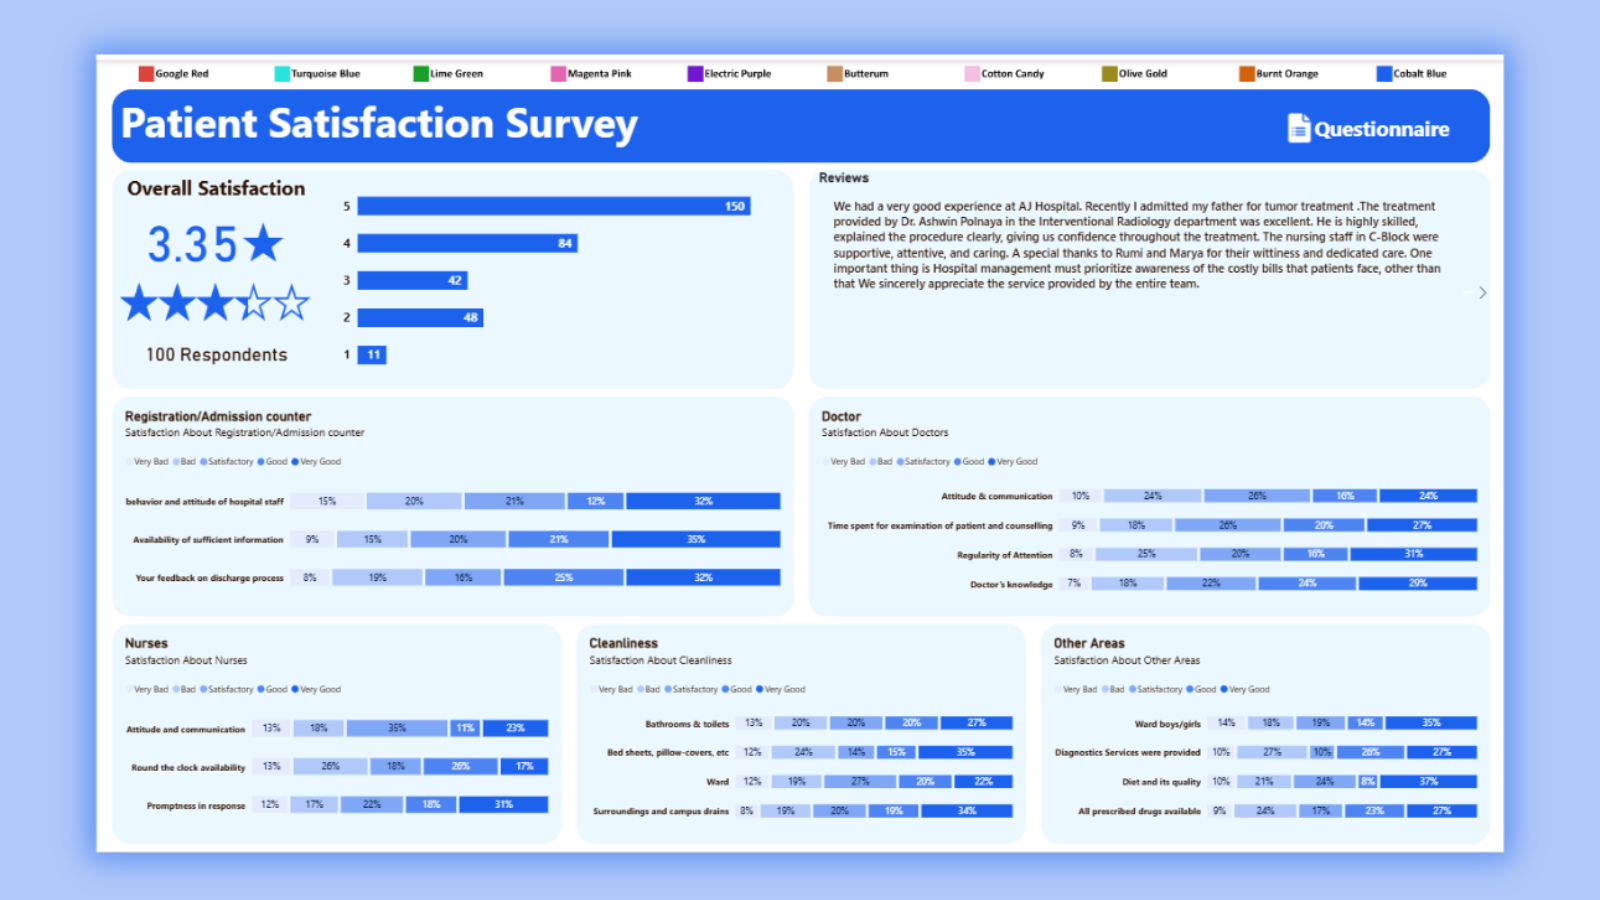

The dashboard page shown, as its layout file describes it:
{"tool":"powerbi","page":{"name":"Theme-09","canvas":[1920,1080],"ordinal":2},"visuals":[{"type":"pageNavigator","box":[1504,4,384,32],"z":0},{"type":"shape","title":"Title_Bg","box":[20,40,1880,100],"z":0,"group":"g8"},{"type":"group","id":"g1","title":"Reviews","box":[970,150,930,301],"z":0,"group":"g5"},{"type":"shape","title":"Review_Bg","box":[970,150,930,300],"z":0,"group":"g1"},{"type":"shape","title":"KPI_Bg","box":[20,151,930,300],"z":0,"group":"g6"},{"type":"image","title":"Yellow Star","box":[33,291,260,80],"z":0,"group":"g2"},{"type":"group","id":"g2","title":"Star Graph","box":[33,291,260,80],"z":0,"group":"g9"},{"type":"group","id":"g3","title":"Section Wise Graphs","box":[20,460,1880,610],"z":0,"group":"g10"},{"type":"hundredPercentStackedBarChart","title":"Doctor","fields":{"Category":["Short question List.Questions-Short"],"Y":["Z Measure Table.Count - Answer - VeryBad","Z Measure Table.Count - Answer - Bad","Z Measure Table.Count - Answer - Satisfactory","Z Measure Table.Count - Answer - Good","Z Measure Table.Count - Answer - VeryGood"]},"box":[970,460,930,300],"z":0,"group":"g7"},{"type":"group","id":"g4","title":"Bottom Graphs","box":[20,770,1880,300],"z":0,"group":"g3"},{"type":"hundredPercentStackedBarChart","title":"Other Areas","fields":{"Category":["Short question List.Questions-Short"],"Y":["Z Measure Table.Count - Answer - VeryBad","Z Measure Table.Count - Answer - Bad","Z Measure Table.Count - Answer - Satisfactory","Z Measure Table.Count - Answer - Good","Z Measure Table.Count - Answer - VeryGood"]},"box":[1287,770,613,300],"z":0,"group":"g4"},{"type":"actionButton","title":"Questionnaire","box":[1552,53,304,80],"z":1000,"group":"g8"},{"type":"group","id":"g5","title":"Group 1","box":[20,150,1880,301],"z":1000,"group":"g10"},{"type":"group","id":"g6","title":"KPI","box":[20,151,930,300],"z":1000,"group":"g5"},{"type":"cardVisual","title":"Reviews","fields":{"Data":["Min(Review Table.Reviews)"],"Rows":["Review Table.Sl"]},"box":[970,151,930,300],"z":1000,"group":"g1"},{"type":"clusteredBarChart","title":"Star Wise Graph","fields":{"Category":["Form Responses 1.Answers"],"Y":["Sum(Form Responses 1.Answers)"]},"box":[320,155,624,296],"z":1000,"group":"g6"},{"type":"clusteredBarChart","fields":{"Y":["Z Measure Table.Diff New"]},"box":[33,291,260,80],"z":1000,"group":"g2"},{"type":"cardVisual","title":"Respondents","fields":{"Data":["Z Measure Table.Tot_Pat"]},"box":[43,379,240,48],"z":1000,"group":"g9"},{"type":"hundredPercentStackedBarChart","title":"Registration/Admission counter","fields":{"Category":["Short question List.Questions-Short"],"Y":["Z Measure Table.Count - Answer - VeryBad","Z Measure Table.Count - Answer - Bad","Z Measure Table.Count - Answer - Satisfactory","Z Measure Table.Count - Answer - Good","Z Measure Table.Count - Answer - VeryGood"]},"box":[20,460,930,300],"z":1000,"group":"g7"},{"type":"group","id":"g7","title":"Top Graphs","box":[20,460,1880,300],"z":1000,"group":"g3"},{"type":"hundredPercentStackedBarChart","title":"Cleanliness","fields":{"Category":["Short question List.Questions-Short"],"Y":["Z Measure Table.Count - Answer - VeryBad","Z Measure Table.Count - Answer - Bad","Z Measure Table.Count - Answer - Satisfactory","Z Measure Table.Count - Answer - Good","Z Measure Table.Count - Answer - VeryGood"]},"box":[653,770,613,300],"z":1000,"group":"g4"},{"type":"group","id":"g8","title":"Title","box":[20,40,1880,100],"z":2000,"group":"g10"},{"type":"textbox","title":"Title","box":[32,45,736,88],"z":2000,"group":"g8"},{"type":"group","id":"g9","title":"KPI","box":[23,155,280,272],"z":2000,"group":"g6"},{"type":"cardVisual","title":"Overall Satisfaction","fields":{"Data":["Z Measure Table.Overall Satisfaction"]},"box":[23,155,280,144],"z":2000,"group":"g9"},{"type":"image","title":"Blank Star","box":[33,291,260,80],"z":2000,"group":"g2"},{"type":"hundredPercentStackedBarChart","title":"Nurses","fields":{"Category":["Short question List.Questions-Short"],"Y":["Z Measure Table.Count - Answer - VeryBad","Z Measure Table.Count - Answer - Bad","Z Measure Table.Count - Answer - Satisfactory","Z Measure Table.Count - Answer - Good","Z Measure Table.Count - Answer - VeryGood"]},"box":[20,770,613,300],"z":2000,"group":"g4"},{"type":"group","id":"g10","title":"Theme 07","box":[20,40,1880,1030],"z":7000}]}

Visuals, with their boxes in screenshot pixels (x1, y1, x2, y2), scaled from the page's 1920x1080 canvas onto the 1600x900 screenshot:
pageNavigator: l=1253, t=3, r=1573, b=30
"Title_Bg" shape: l=17, t=33, r=1583, b=117
"Reviews" group: l=808, t=125, r=1583, b=376
"Review_Bg" shape: l=808, t=125, r=1583, b=375
"KPI_Bg" shape: l=17, t=126, r=792, b=376
"Yellow Star" image: l=28, t=242, r=244, b=309
"Star Graph" group: l=28, t=242, r=244, b=309
"Section Wise Graphs" group: l=17, t=383, r=1583, b=892
"Doctor" hundredPercentStackedBarChart: l=808, t=383, r=1583, b=633
"Bottom Graphs" group: l=17, t=642, r=1583, b=892
"Other Areas" hundredPercentStackedBarChart: l=1072, t=642, r=1583, b=892
"Questionnaire" actionButton: l=1293, t=44, r=1547, b=111
"Group 1" group: l=17, t=125, r=1583, b=376
"KPI" group: l=17, t=126, r=792, b=376
"Reviews" cardVisual: l=808, t=126, r=1583, b=376
"Star Wise Graph" clusteredBarChart: l=267, t=129, r=787, b=376
clusteredBarChart - Z Measure Table.Diff New: l=28, t=242, r=244, b=309
"Respondents" cardVisual: l=36, t=316, r=236, b=356
"Registration/Admission counter" hundredPercentStackedBarChart: l=17, t=383, r=792, b=633
"Top Graphs" group: l=17, t=383, r=1583, b=633
"Cleanliness" hundredPercentStackedBarChart: l=544, t=642, r=1055, b=892
"Title" group: l=17, t=33, r=1583, b=117
"Title" textbox: l=27, t=38, r=640, b=111
"KPI" group: l=19, t=129, r=252, b=356
"Overall Satisfaction" cardVisual: l=19, t=129, r=252, b=249
"Blank Star" image: l=28, t=242, r=244, b=309
"Nurses" hundredPercentStackedBarChart: l=17, t=642, r=528, b=892
"Theme 07" group: l=17, t=33, r=1583, b=892
